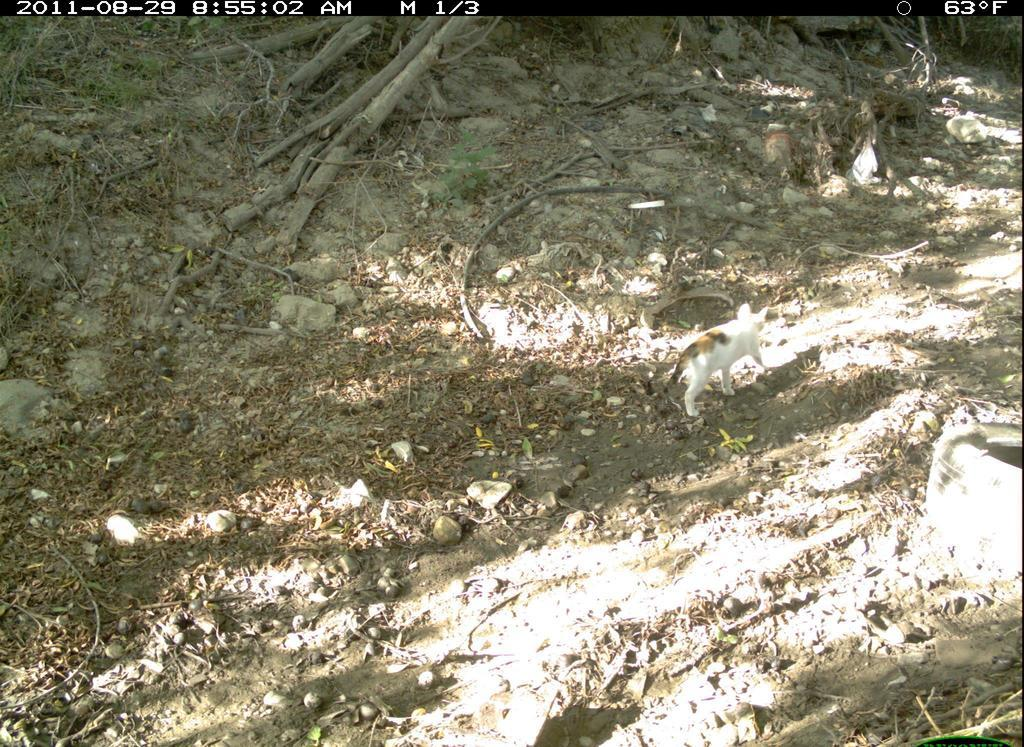cat: (646, 299, 795, 428)
